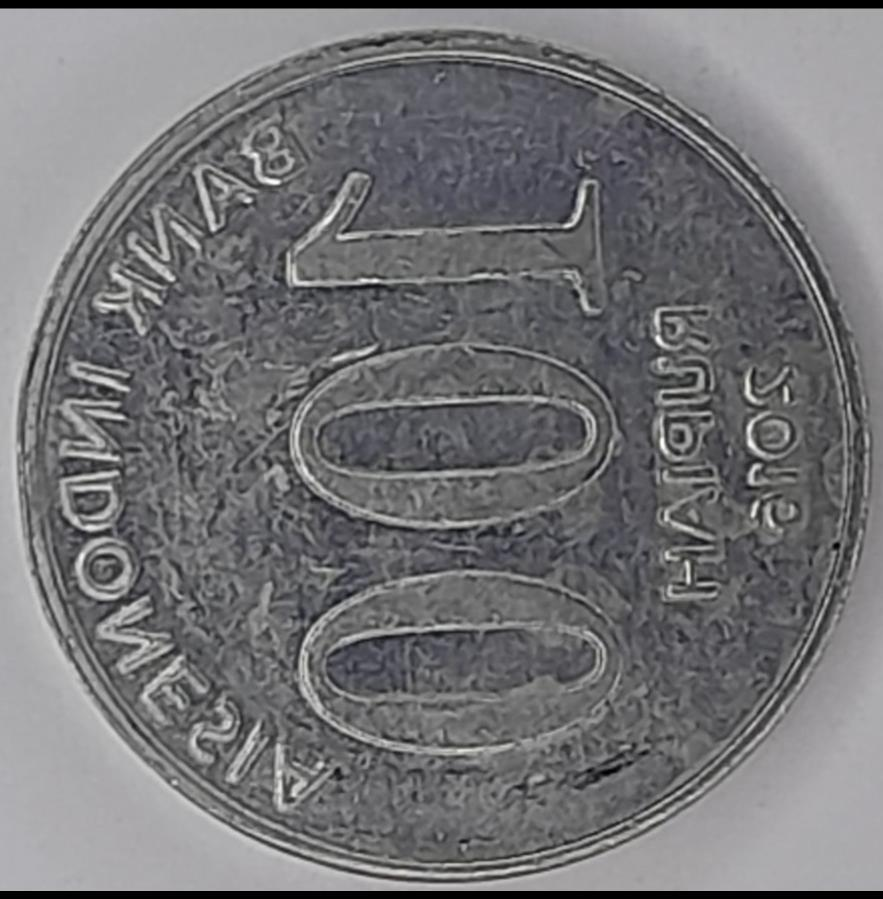coin_100_e2016: (10, 23, 876, 882)
